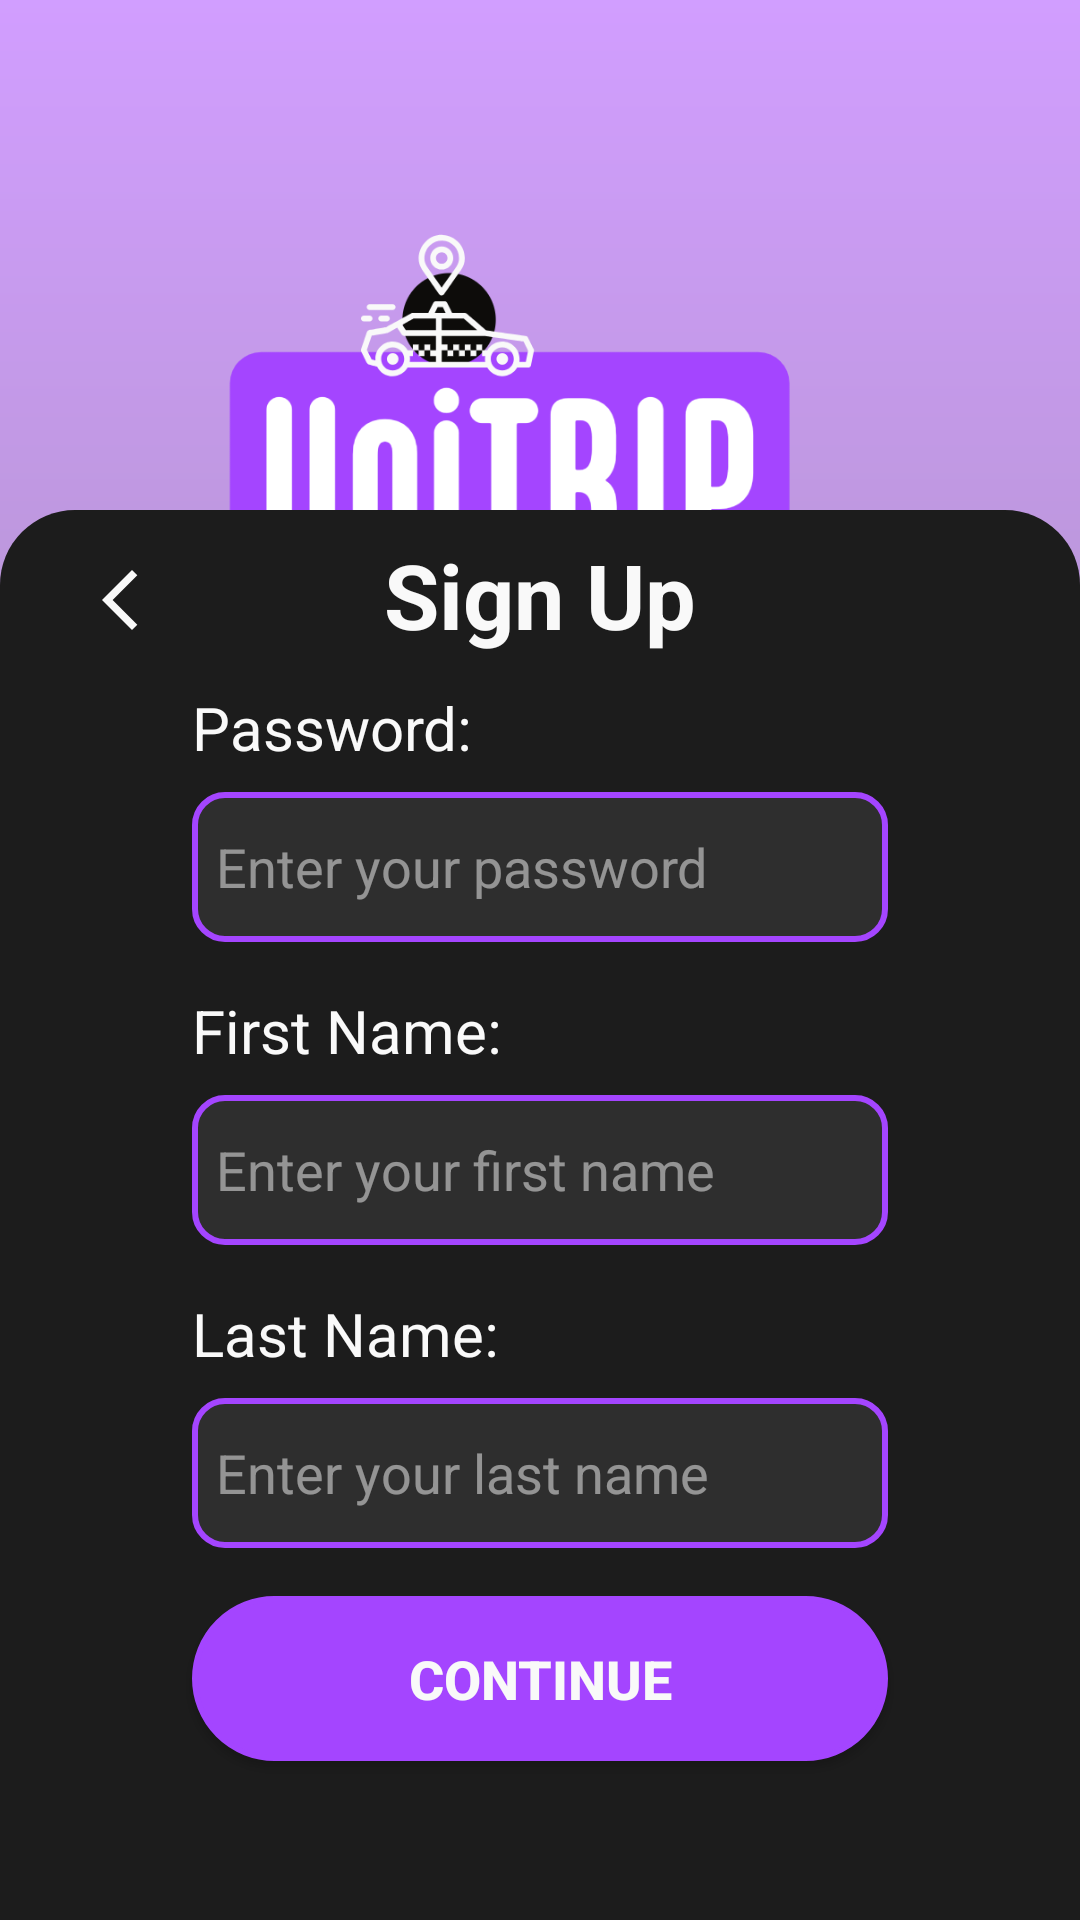

Where icons sit on this 1080x1920 app screen, as (x1, y1, x2, y2):
Button Back: (102, 570, 137, 630)
